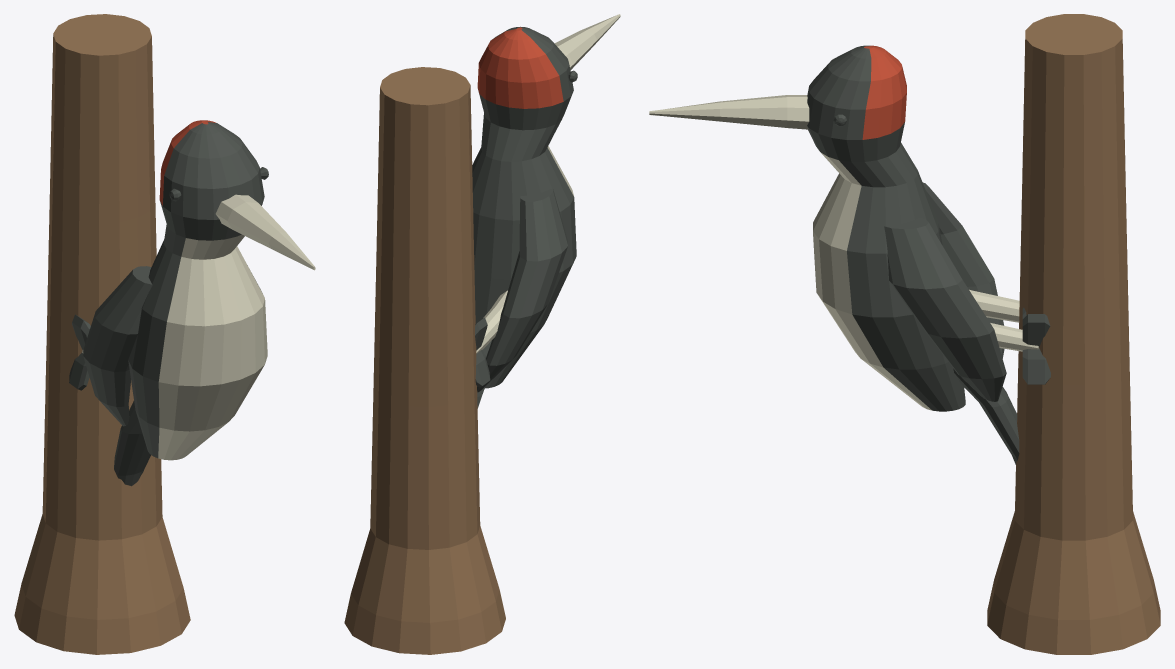
3 renders of one model, left to right at view 1: azimuth 30°, elevation 25°; view 2: azimuth 150°, elevation 25°; view 3: azimuth 270°, elevation 25°, orthographic. The views are drawn at different scales.
Parts seen in each view (by area): view 1: WholeShortUprightFiniteGroundTimberStem, WholeNarrowUprightTorsoShortNeckAndSmallWedgeBillHead, WholeCloseFoldedWoodpeckerWing0, WholeLongStraightTaperedWedgeBill, WholeLongTaperingTailReachingStem, WholeOpposingLobedClingingFoot0; view 2: WholeShortUprightFiniteGroundTimberStem, WholeNarrowUprightTorsoShortNeckAndSmallWedgeBillHead, WholeCloseFoldedWoodpeckerWing0, WholeLongStraightTaperedWedgeBill, WholeOpposingLobedClingingFoot0, WholeShortBentClingingLeg0; view 3: WholeShortUprightFiniteGroundTimberStem, WholeNarrowUprightTorsoShortNeckAndSmallWedgeBillHead, WholeCloseFoldedWoodpeckerWing1, WholeLongStraightTaperedWedgeBill, WholeCloseFoldedWoodpeckerWing0, WholeOpposingLobedClingingFoot1, WholeLongTaperingTailReachingStem, WholeShortBentClingingLeg0, WholeShortBentClingingLeg1.
Boxes of the visible parts, left/top/right/bottom form: WholeShortUprightFiniteGroundTimberStem: left=14, top=14, right=190, bottom=654; WholeNarrowUprightTorsoShortNeckAndSmallWedgeBillHead: left=128, top=120, right=267, bottom=460; WholeCloseFoldedWoodpeckerWing0: left=83, top=266, right=152, bottom=426; WholeLongStraightTaperedWedgeBill: left=215, top=194, right=315, bottom=270; WholeLongTaperingTailReachingStem: left=114, top=401, right=150, bottom=486; WholeOpposingLobedClingingFoot0: left=69, top=314, right=90, bottom=390; WholeShortUprightFiniteGroundTimberStem: left=344, top=67, right=505, bottom=654; WholeNarrowUprightTorsoShortNeckAndSmallWedgeBillHead: left=472, top=26, right=576, bottom=388; WholeCloseFoldedWoodpeckerWing0: left=477, top=188, right=567, bottom=392; WholeLongStraightTaperedWedgeBill: left=554, top=14, right=620, bottom=70; WholeOpposingLobedClingingFoot0: left=475, top=317, right=490, bottom=387; WholeShortBentClingingLeg0: left=476, top=290, right=507, bottom=353; WholeShortUprightFiniteGroundTimberStem: left=987, top=14, right=1160, bottom=654; WholeNarrowUprightTorsoShortNeckAndSmallWedgeBillHead: left=807, top=45, right=965, bottom=411; WholeCloseFoldedWoodpeckerWing1: left=884, top=217, right=1006, bottom=401; WholeLongStraightTaperedWedgeBill: left=649, top=95, right=809, bottom=129; WholeCloseFoldedWoodpeckerWing0: left=922, top=182, right=1004, bottom=358; WholeOpposingLobedClingingFoot1: left=1022, top=307, right=1050, bottom=384; WholeLongTaperingTailReachingStem: left=953, top=368, right=1019, bottom=464; WholeShortBentClingingLeg0: left=969, top=289, right=1019, bottom=322; WholeShortBentClingingLeg1: left=990, top=323, right=1038, bottom=351.
Size of the model in its own units: 0.4904 by 1.82 by 1.45.
